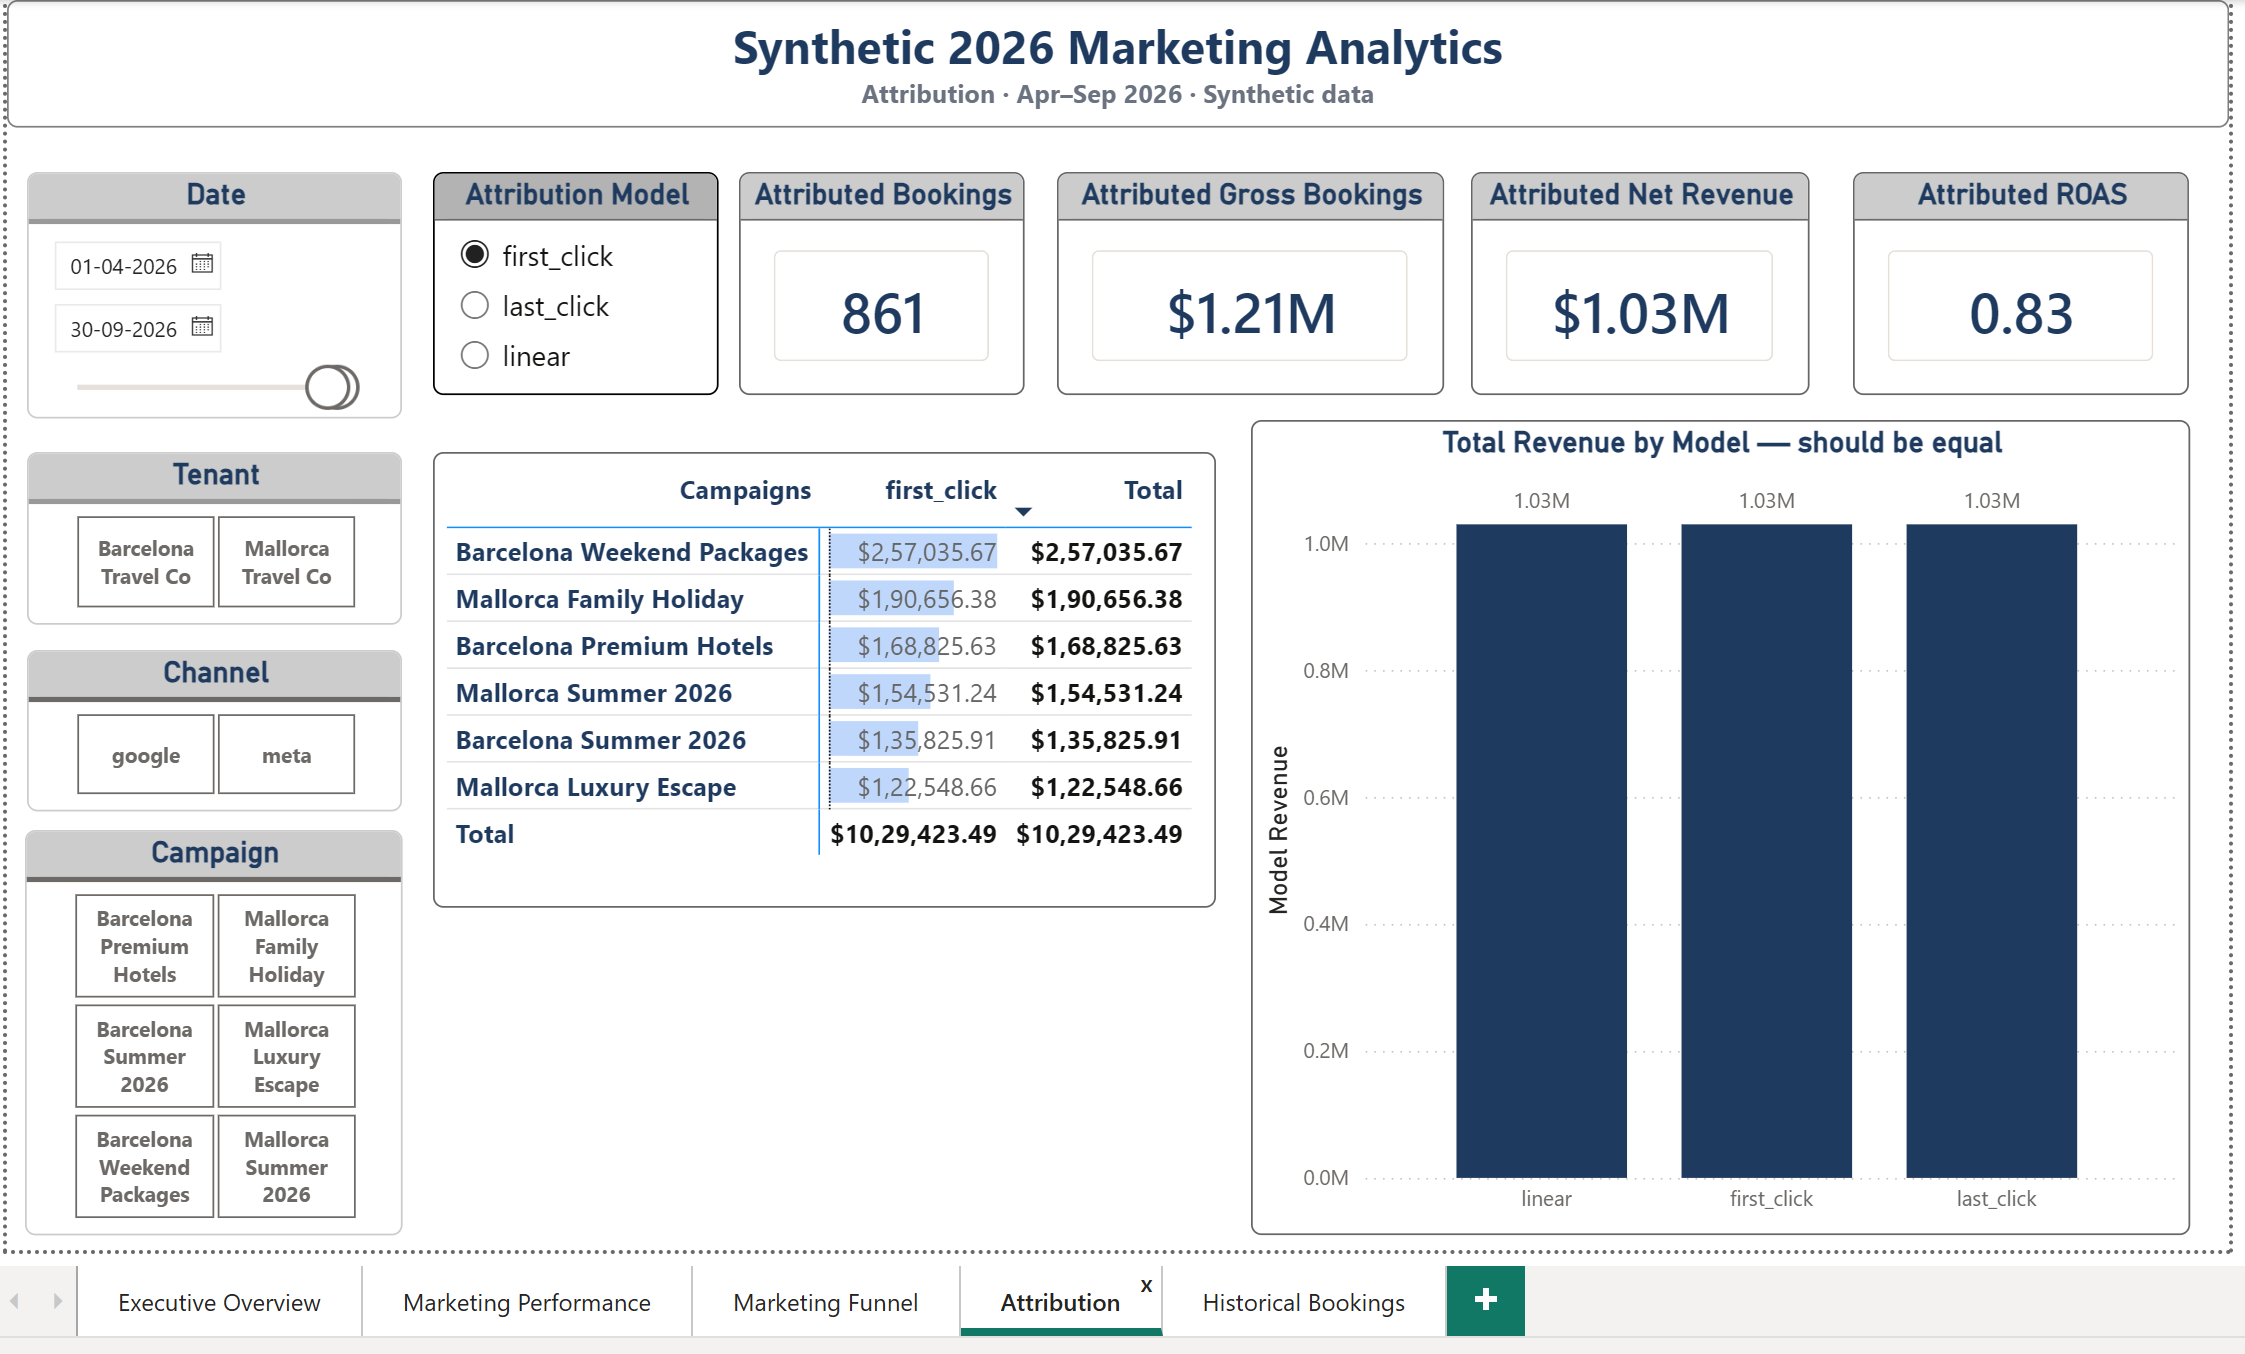

What the dashboard file says about the page in this screenshot:
{"tool":"powerbi","page":{"name":"Attribution","canvas":[1280,720],"ordinal":3},"visuals":[{"type":"slicer","title":"Date","fields":{"Values":["dim_date.date_day"]},"box":[11.9,99.5,216.2,141.9],"z":0},{"type":"slicer","title":"Tenant","fields":{"Values":["dim_tenant.tenant_name"]},"box":[11.9,260,216.2,99.5],"z":1000},{"type":"slicer","title":"Campaign","fields":{"Values":["dim_campaign.campaign_name"]},"box":[10.6,477.5,217.5,233.5],"z":2000},{"type":"slicer","title":"Channel","fields":{"Values":["dim_campaign.channel"]},"box":[11.9,374.1,216.2,92.8],"z":3000},{"type":"textbox","box":[0,0,1279.9,73.7],"z":4000},{"type":"cardVisual","title":"Attributed Bookings","fields":{"Data":["_Measures.Attributed Bookings"]},"box":[421.8,99.5,164.5,128.7],"z":5000},{"type":"cardVisual","title":"Attributed Gross Bookings","fields":{"Data":["_Measures.Attributed Gross Booking Value"]},"box":[604.8,99.5,222.8,128.7],"z":6000},{"type":"cardVisual","title":"Attributed Net Revenue","fields":{"Data":["_Measures.Attributed Net Revenue"]},"box":[843.6,99.5,195,128.7],"z":7000},{"type":"cardVisual","title":"Attributed ROAS","fields":{"Data":["_Measures.Attributed ROAS"]},"box":[1063.8,99.5,193.7,128.7],"z":8000},{"type":"slicer","title":"Attribution Model","fields":{"Values":["fct_marketing_attribution_daily.attribution_model"]},"box":[245.4,99.5,164.5,128.7],"z":9000},{"type":"pivotTable","fields":{"Rows":["dim_campaign.campaign_name"],"Columns":["fct_marketing_attribution_daily.attribution_model"],"Values":["_Measures.Attributed Net Revenue"]},"box":[245.4,260,451,262.6],"z":10000},{"type":"clusteredColumnChart","title":"Total Revenue by Model — should be equal","fields":{"Category":["Model Names.Model"],"Y":["_Measures.Model Revenue"]},"box":[716.3,241.4,541.2,469.6],"z":11000}]}

Visuals, with their boxes on the page's 1280x720 design canvas (x1, y1, x2, y2). These are canvas units, not pixel positions in the 2245x1354 screenshot, which may show the page scaled, cropped or inside an application window:
"Date" slicer: (x1=12, y1=100, x2=228, y2=241)
"Tenant" slicer: (x1=12, y1=260, x2=228, y2=360)
"Campaign" slicer: (x1=11, y1=478, x2=228, y2=711)
"Channel" slicer: (x1=12, y1=374, x2=228, y2=467)
textbox: (x1=0, y1=0, x2=1280, y2=74)
"Attributed Bookings" cardVisual: (x1=422, y1=100, x2=586, y2=228)
"Attributed Gross Bookings" cardVisual: (x1=605, y1=100, x2=828, y2=228)
"Attributed Net Revenue" cardVisual: (x1=844, y1=100, x2=1039, y2=228)
"Attributed ROAS" cardVisual: (x1=1064, y1=100, x2=1258, y2=228)
"Attribution Model" slicer: (x1=245, y1=100, x2=410, y2=228)
pivotTable - dim_campaign.campaign_name x fct_marketing_attribution_daily.attribution_model: (x1=245, y1=260, x2=696, y2=523)
"Total Revenue by Model — should be equal" clusteredColumnChart: (x1=716, y1=241, x2=1258, y2=711)
